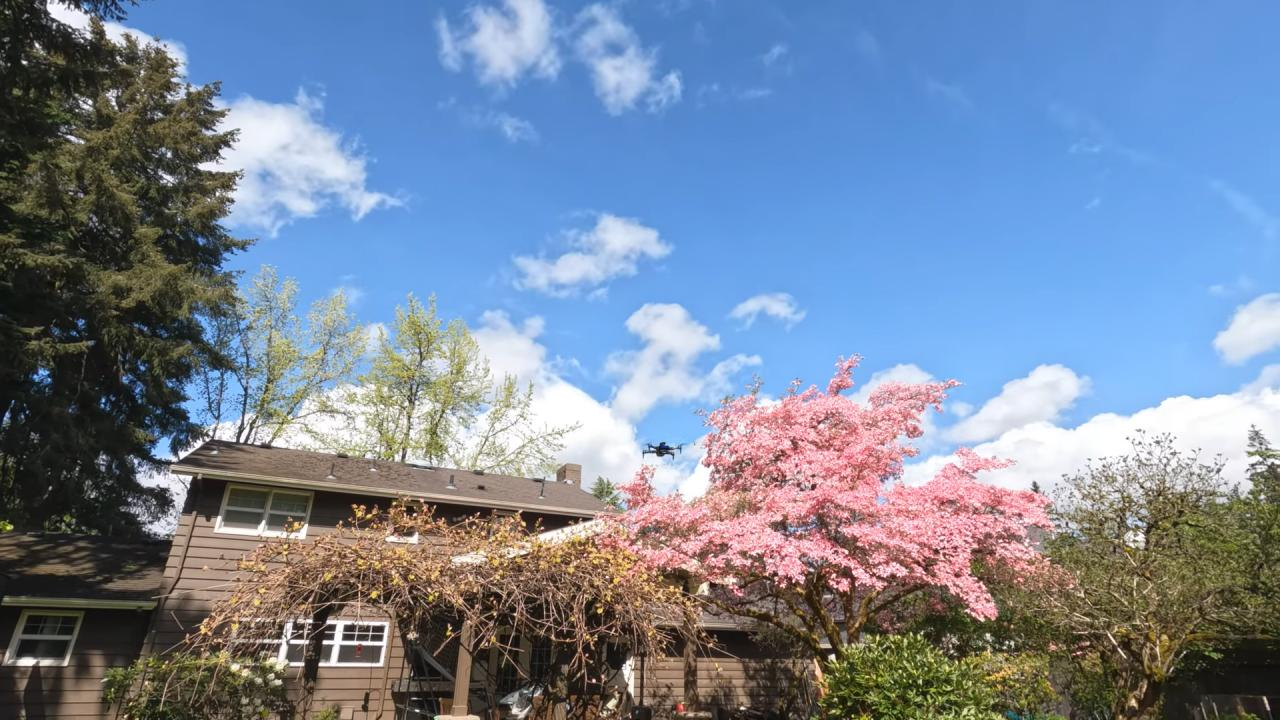Drone: (634, 432, 696, 468)
